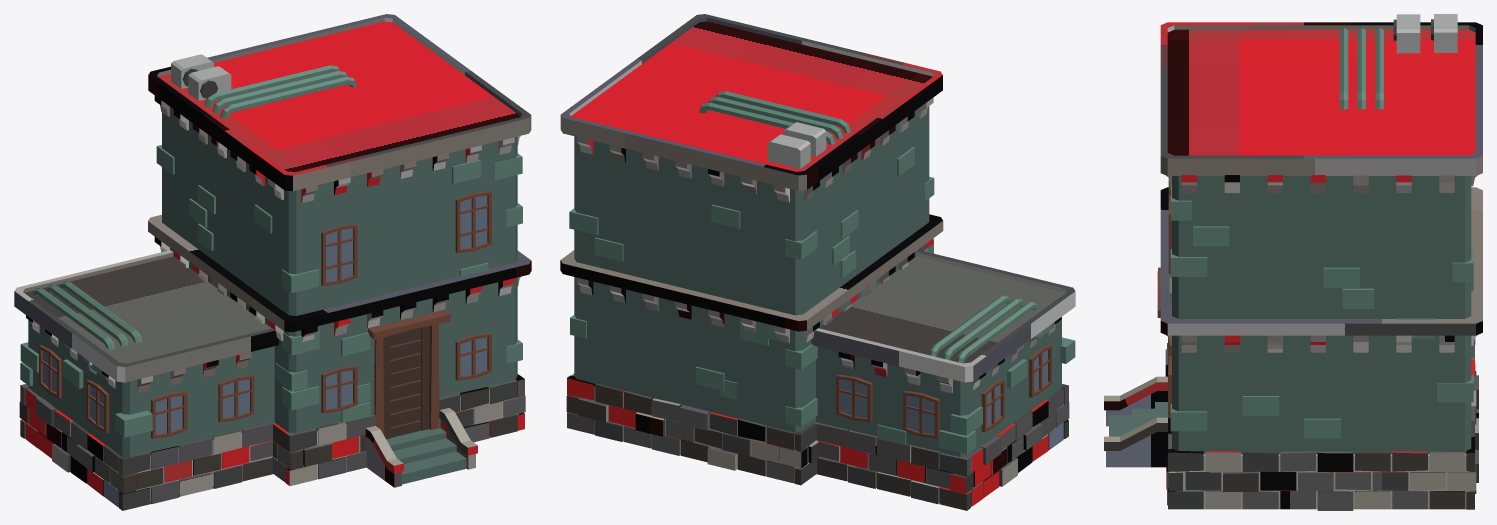
File: quaternius-ultimate-textured-building-2-story-sidehouse-mat.glb
The picture shows the model from 3 angles, left to right: view 1: azimuth 30°, elevation 25°; view 2: azimuth 150°, elevation 25°; view 3: azimuth 270°, elevation 25°; orthographic projection. The views are drawn at different scales.
Visible parts, largest first — view 1: 2Story_Sidehouse_Mat; view 2: 2Story_Sidehouse_Mat; view 3: 2Story_Sidehouse_Mat.
Part boxes in pixels (x1,y1,x2,y2): 2Story_Sidehouse_Mat: [14, 14, 531, 510]; 2Story_Sidehouse_Mat: [560, 14, 1075, 510]; 2Story_Sidehouse_Mat: [1104, 14, 1482, 510].
Bounding box in the file's own units: 3.47 × 2.76 × 2.53.
3 materials, 3 textured.
